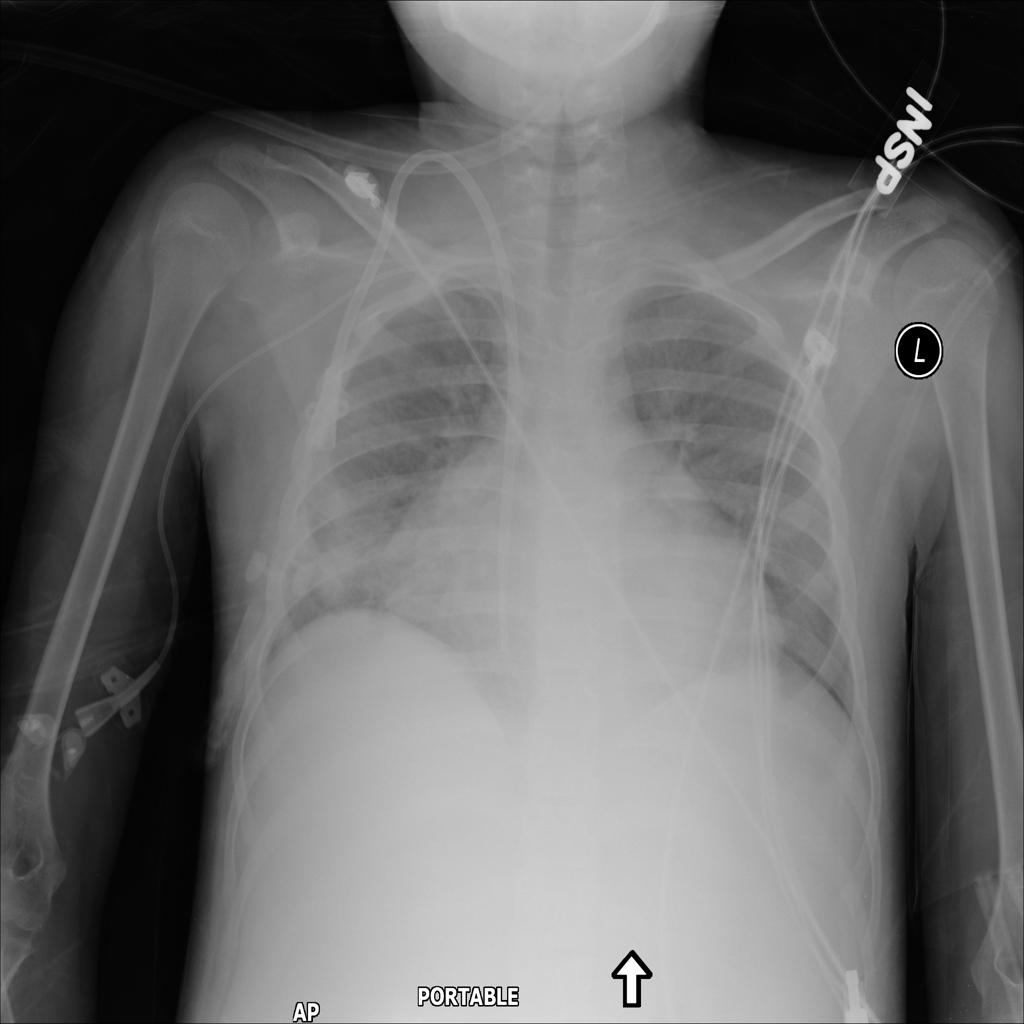Cardiomegaly: (351, 406, 815, 763)
